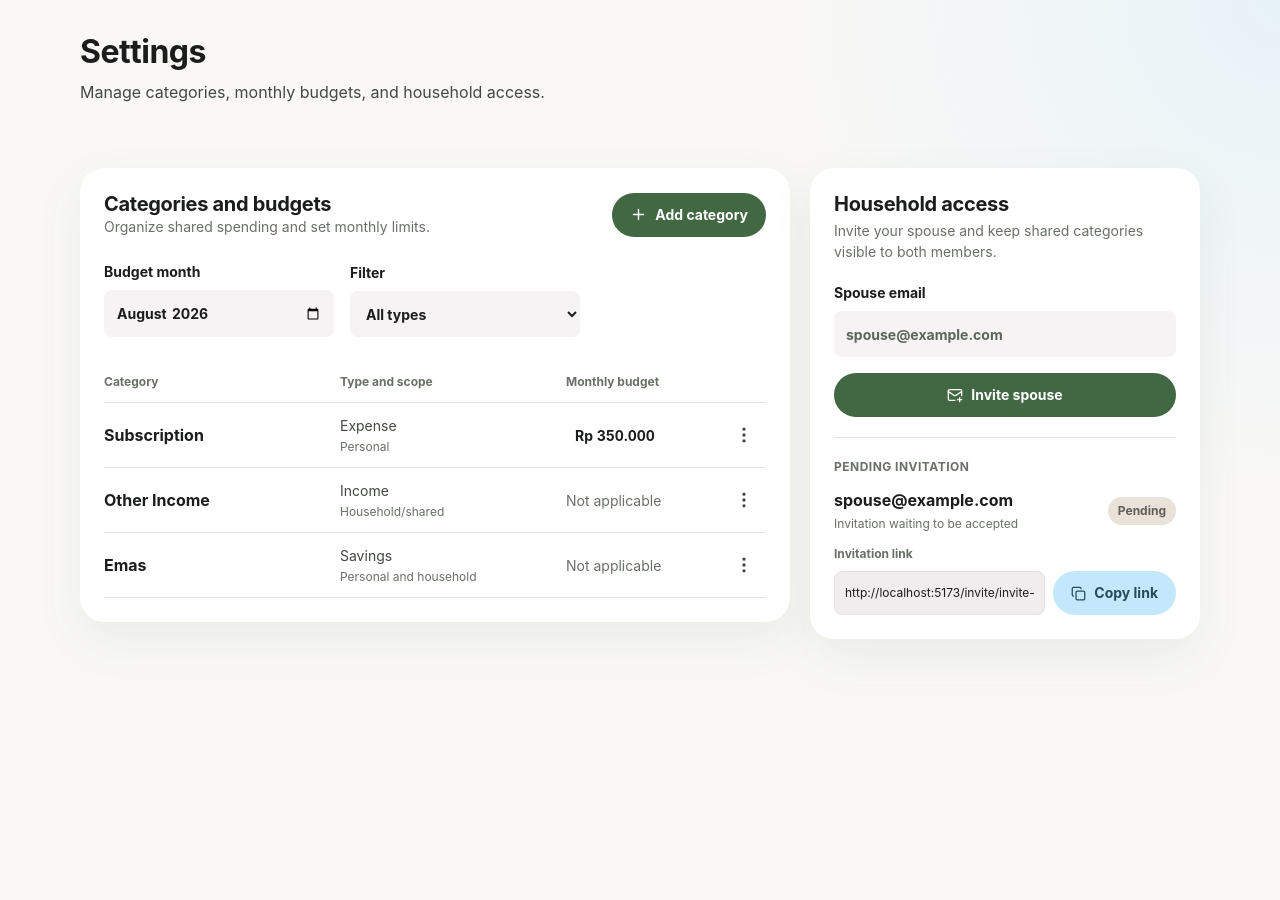
Test: OpenDesign Settings conversion › keeps a pending invitation link copyable after the invitation is created
Click the button "Copy link": point(1115, 593) [1053,571,1176,615]
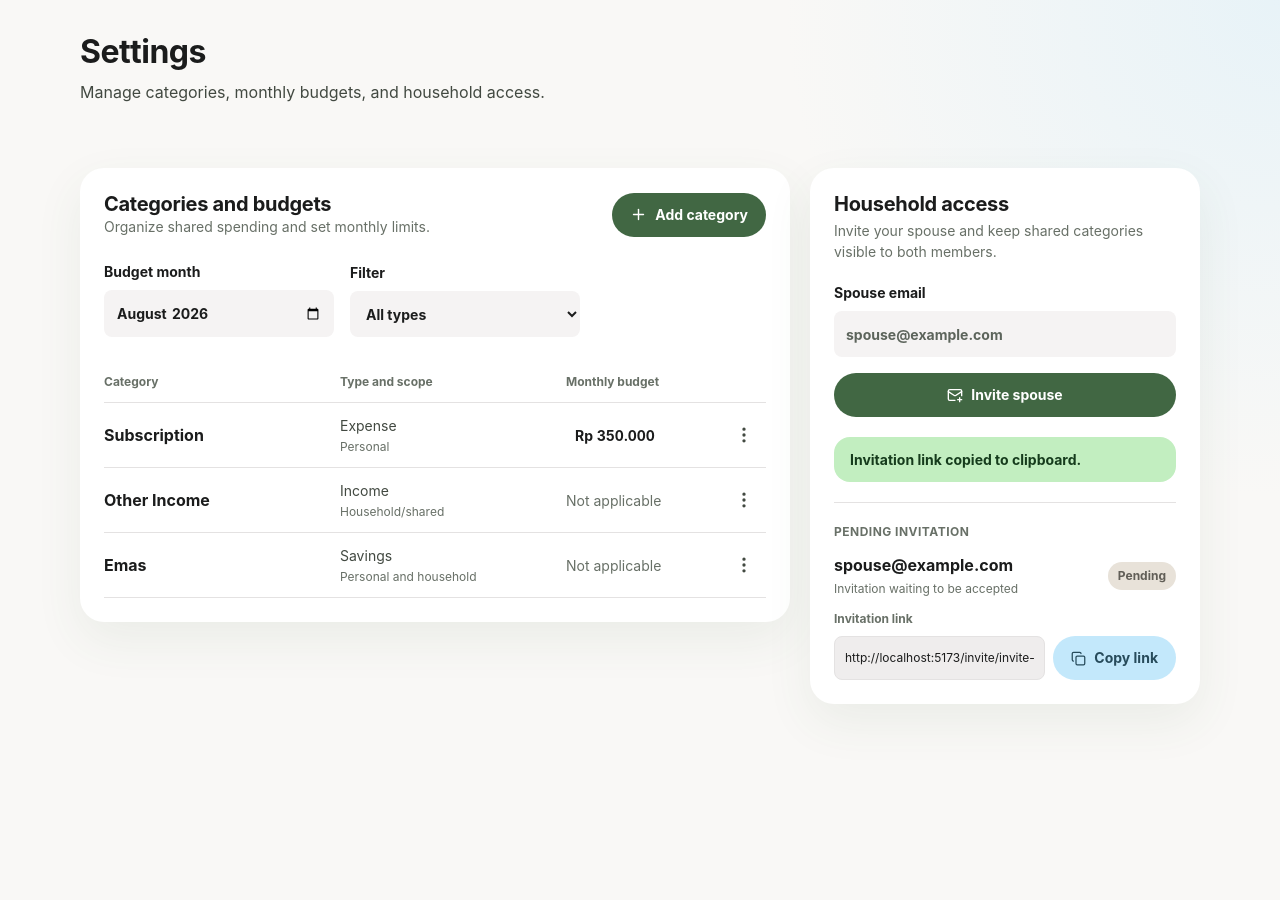
Now the text "Invitation link copied to clipboard." is shown, box [834,437,1176,482]
